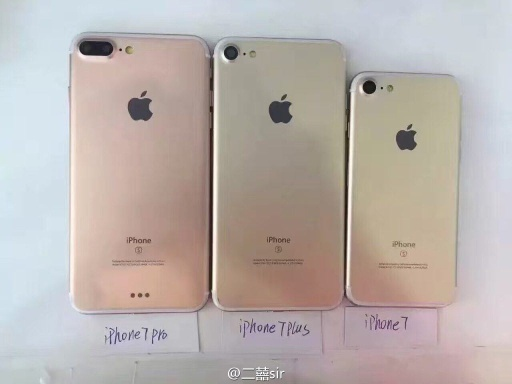apple: (122, 88, 159, 129), (261, 91, 300, 129), (392, 119, 423, 154)
